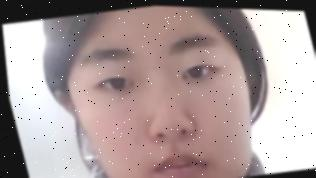eye: (106, 74, 125, 90), (185, 64, 201, 78)
iris: (177, 61, 215, 80), (93, 74, 133, 92)
